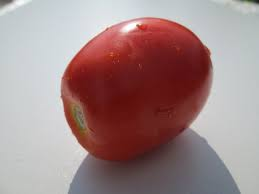tomato: (61, 17, 212, 160)
